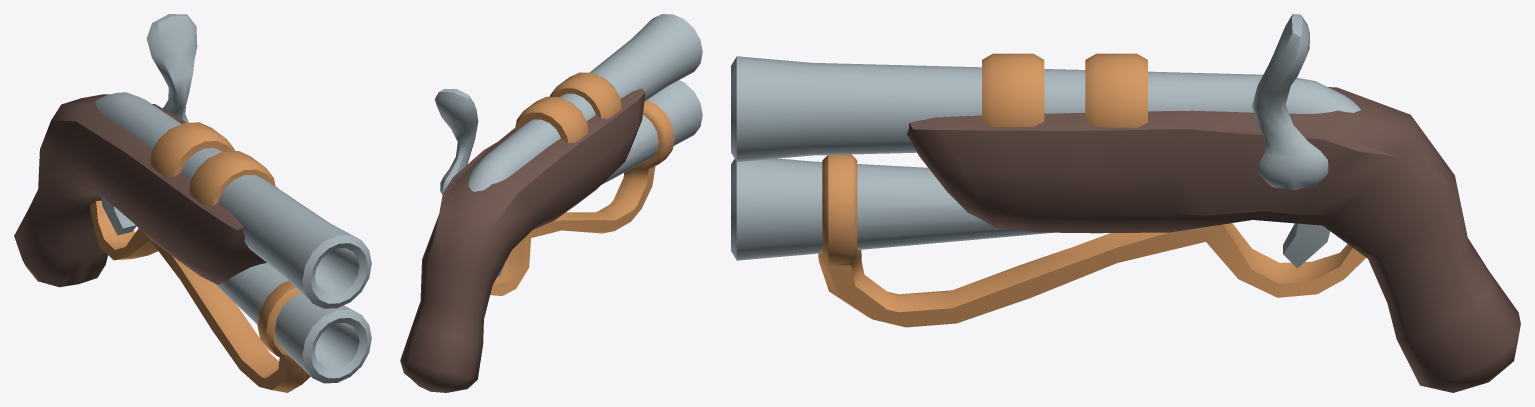
Rendered from flintlock_double.gltf.glb.
The picture shows the model from 3 angles, left to right: view 1: azimuth 30°, elevation 25°; view 2: azimuth 150°, elevation 25°; view 3: azimuth 270°, elevation 25°; orthographic projection. The views are drawn at different scales.
Parts seen in each view (by area): view 1: flintlock_double; view 2: flintlock_double; view 3: flintlock_double.
Part boxes in pixels (left/top/right/bottom): flintlock_double: left=14, top=14, right=371, bottom=392; flintlock_double: left=400, top=14, right=702, bottom=392; flintlock_double: left=731, top=14, right=1520, bottom=392.
Size of the model in its own units: 0.2092 by 0.5142 by 0.9352.
